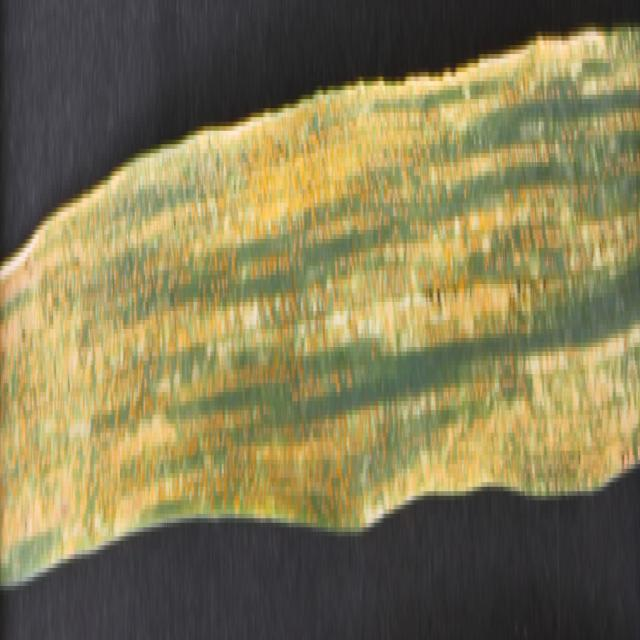leaf rust: (0, 54, 640, 541)
